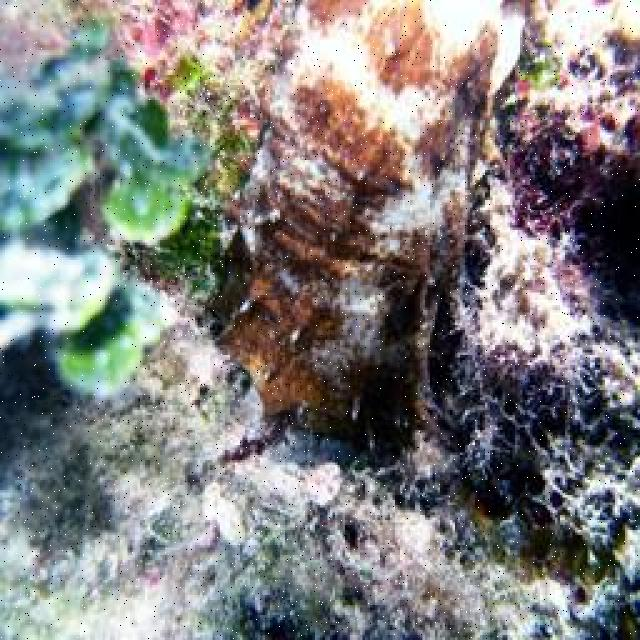aquatic plants: (0, 21, 221, 401)
reefs: (206, 0, 538, 431)
